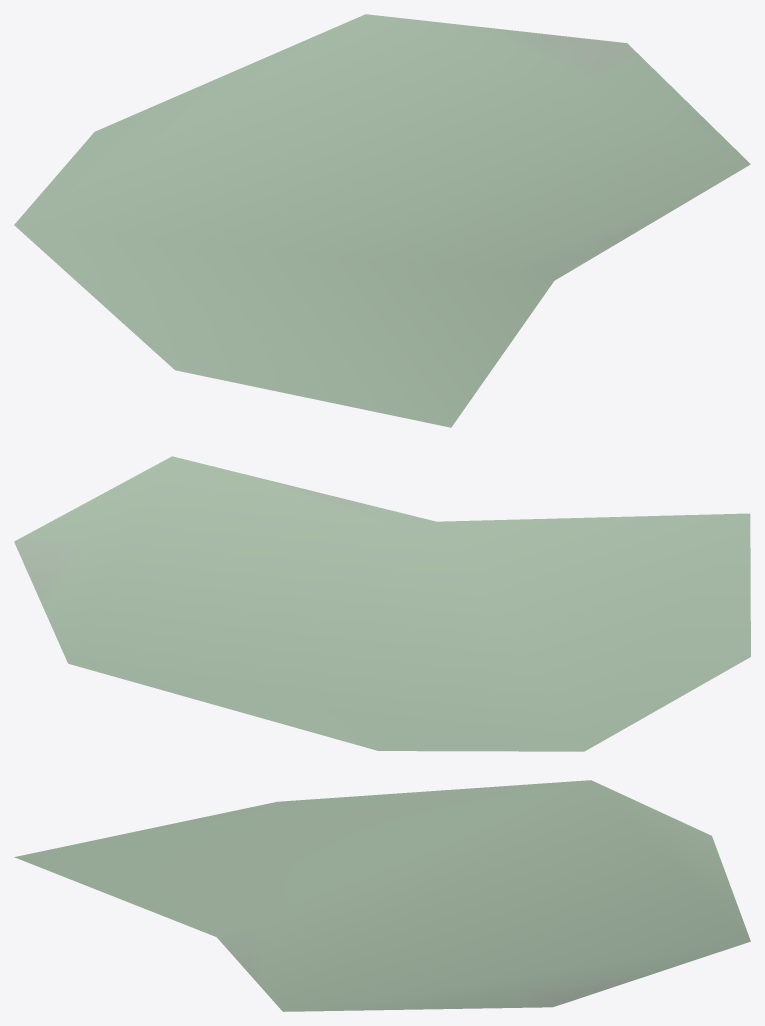
Rendered from TROLLHOLE02_HOLECAP44.fbx.
The picture shows the model from 3 angles, top to bottom: view 1: azimuth 30°, elevation 25°; view 2: azimuth 150°, elevation 25°; view 3: azimuth 270°, elevation 25°; orthographic projection. The views are drawn at different scales.
Visible parts, largest first — view 1: TROLLHOLE02_HOLECAP44; view 2: TROLLHOLE02_HOLECAP44; view 3: TROLLHOLE02_HOLECAP44.
Boxes of the visible parts, x1=… form: TROLLHOLE02_HOLECAP44: x1=14, y1=14, x2=750, y2=427; TROLLHOLE02_HOLECAP44: x1=14, y1=456, x2=750, y2=751; TROLLHOLE02_HOLECAP44: x1=14, y1=780, x2=750, y2=1011.
Size of the model in its own units: 14406 by 1753 by 16134.
Materials: 1 (1 with a texture image).
